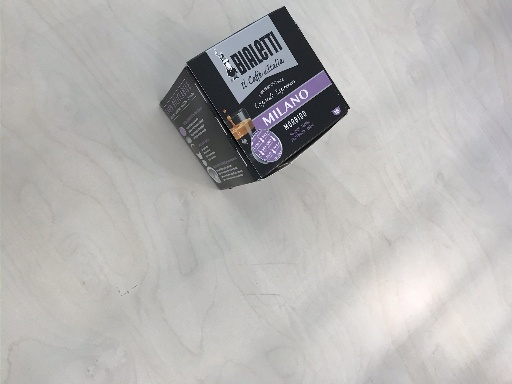Caffe: (161, 7, 352, 193)
